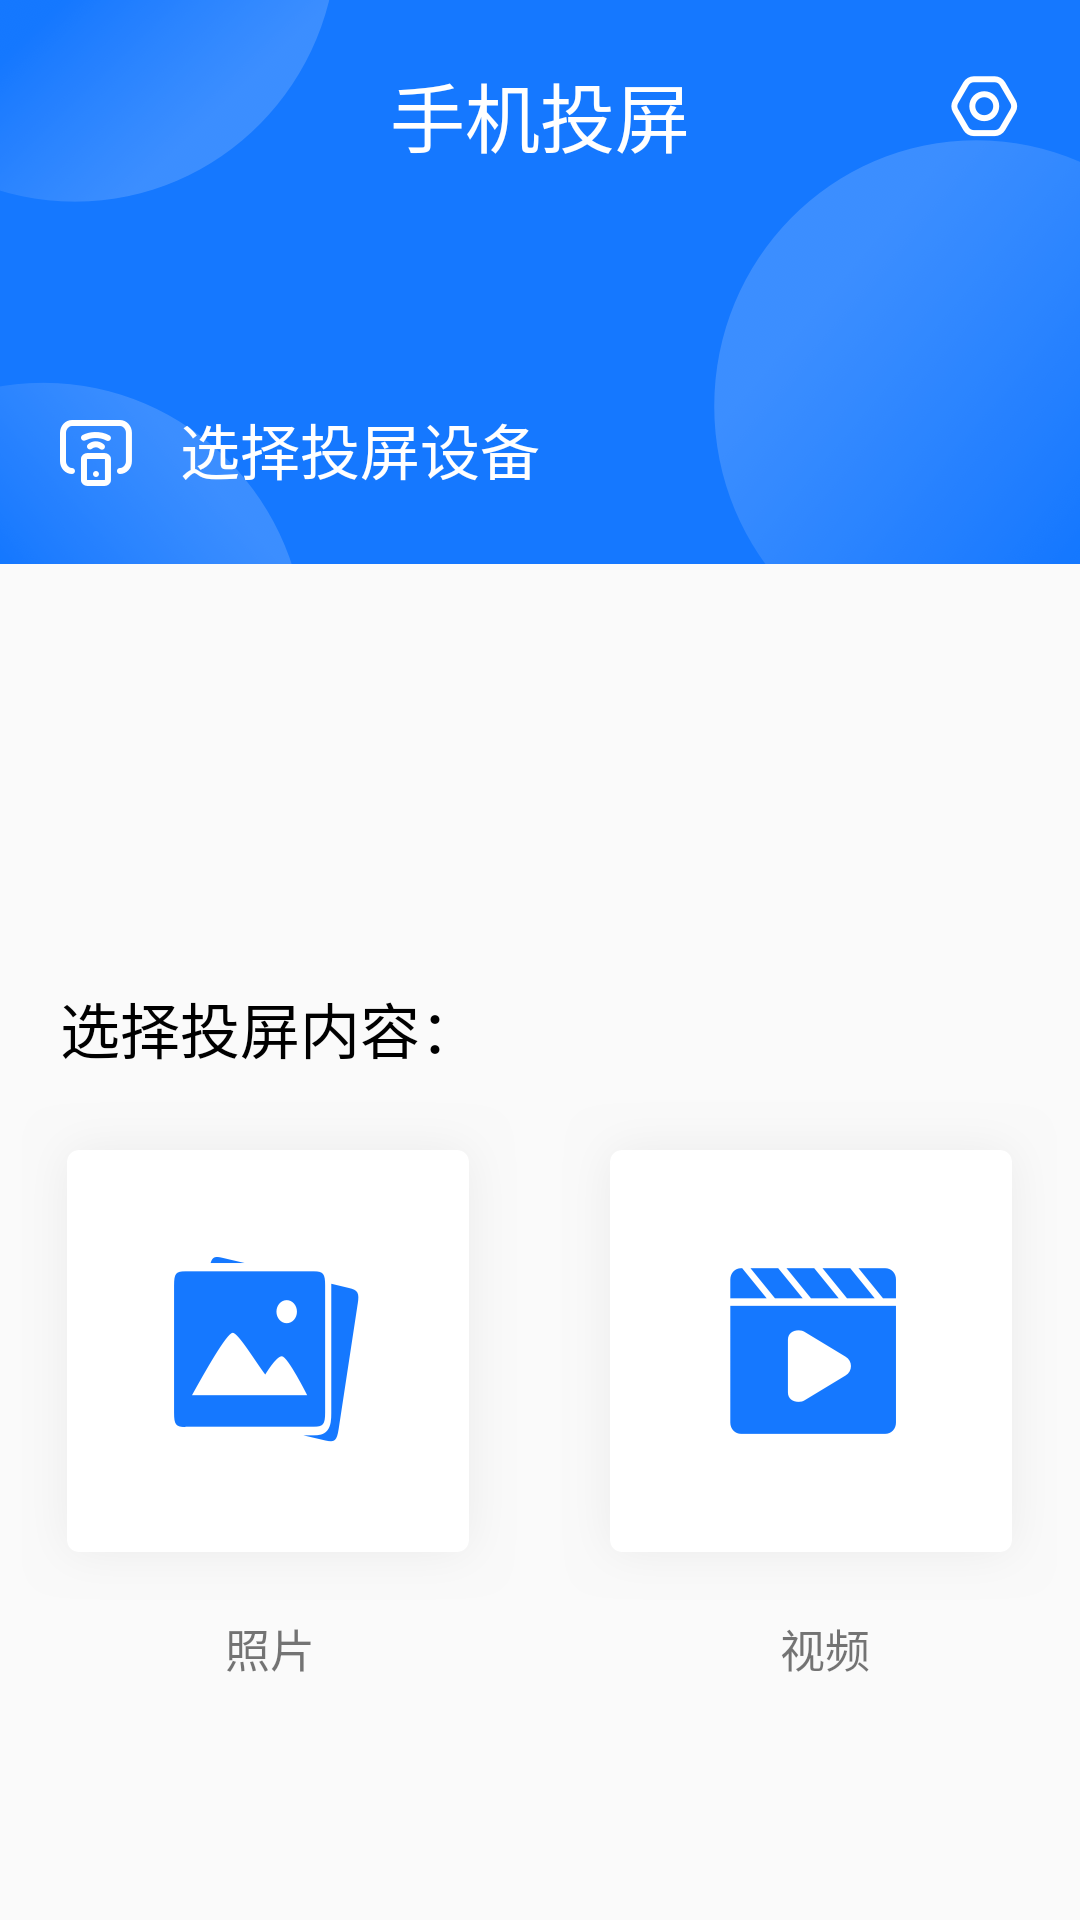

Screen size 1080w x 1920h. Icon name, then its box in pixels as (x1, y1, x2, y2):
photo: (174, 1257, 359, 1442)
setting: (951, 76, 1018, 137)
video: (730, 1268, 896, 1434)
